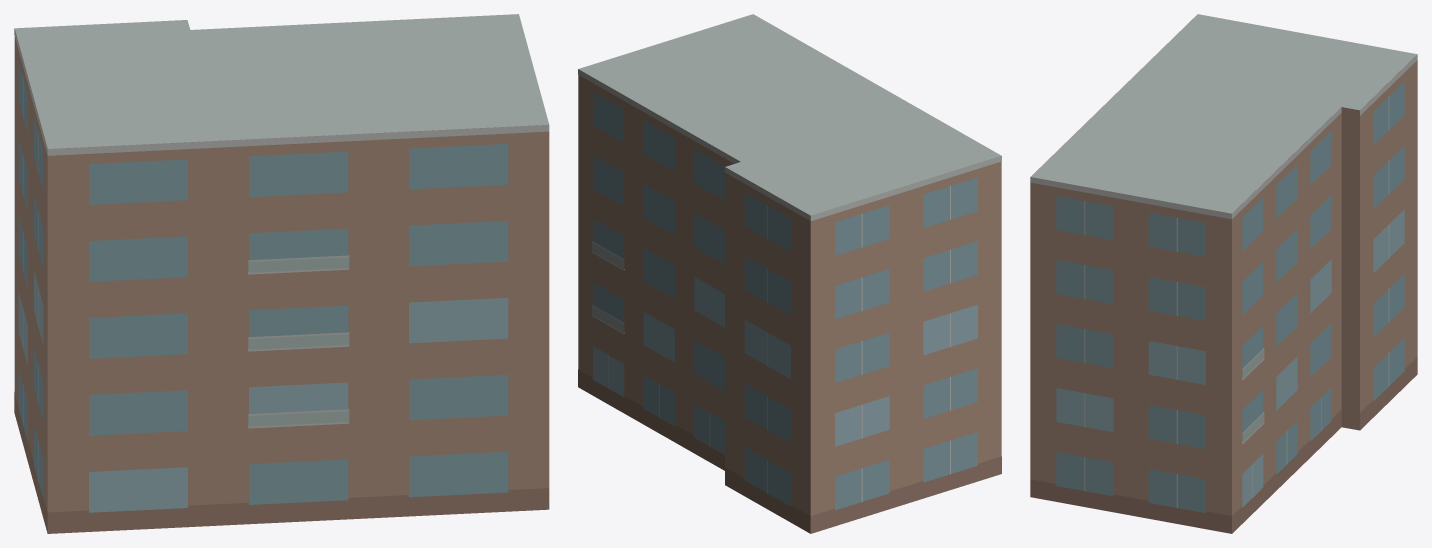
Rendered from survey-upis-32530474.glb.
3 renders of one model, left to right at view 1: azimuth 30°, elevation 25°; view 2: azimuth 150°, elevation 25°; view 3: azimuth 270°, elevation 25°, orthographic. The views are drawn at different scales.
Parts seen in each view (by area): view 1: survey-upis-32530474.tmp; view 2: survey-upis-32530474.tmp; view 3: survey-upis-32530474.tmp.
Boxes of the visible parts, box(x1,y1,x2,y2) form: survey-upis-32530474.tmp: box(14, 14, 549, 533); survey-upis-32530474.tmp: box(578, 14, 1001, 533); survey-upis-32530474.tmp: box(1030, 14, 1417, 533).
Size of the model in its own units: 18.47 by 13.8 by 15.13.
